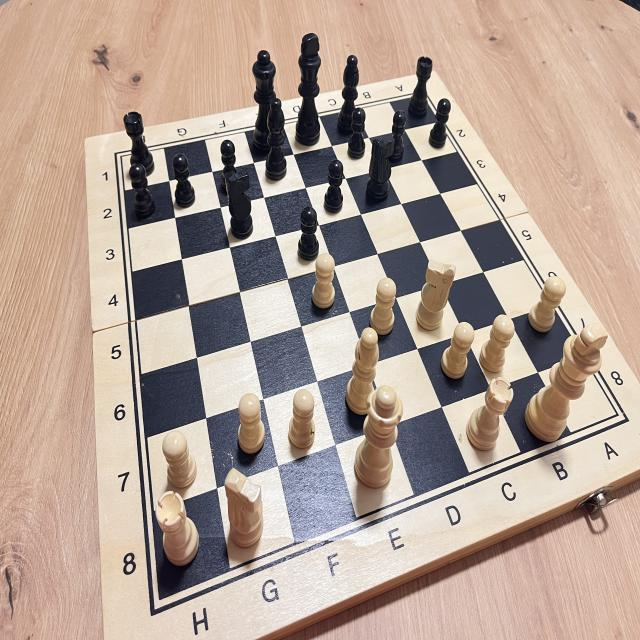black-bishop: (330, 42, 366, 146), (262, 90, 291, 186)
black-king: (290, 25, 328, 149)
black-knight: (220, 164, 260, 238), (362, 133, 397, 210)
black-pawn: (125, 158, 159, 224), (168, 150, 200, 215), (212, 134, 243, 199), (340, 103, 370, 165), (427, 94, 456, 156), (294, 204, 324, 262), (320, 160, 348, 215), (385, 107, 411, 166)
black-queen: (242, 42, 286, 162)
black-rook: (120, 105, 158, 183), (404, 50, 440, 120)
white-bishop: (340, 310, 388, 428)
white-king: (522, 315, 612, 448)
white-knight: (217, 463, 272, 562), (412, 256, 460, 338)
white-pawn: (280, 383, 326, 459), (524, 270, 572, 340), (231, 385, 272, 463), (435, 314, 480, 385), (157, 424, 202, 495), (476, 310, 520, 381), (366, 272, 404, 344), (309, 242, 341, 316)
white-queen: (351, 378, 406, 503)
white-rook: (146, 480, 207, 574), (459, 367, 515, 459)
